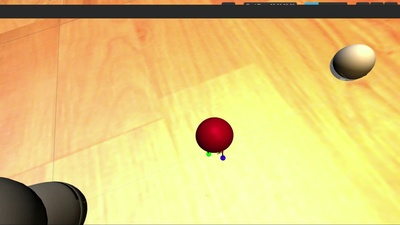mira_robot: (330, 44, 376, 82)
